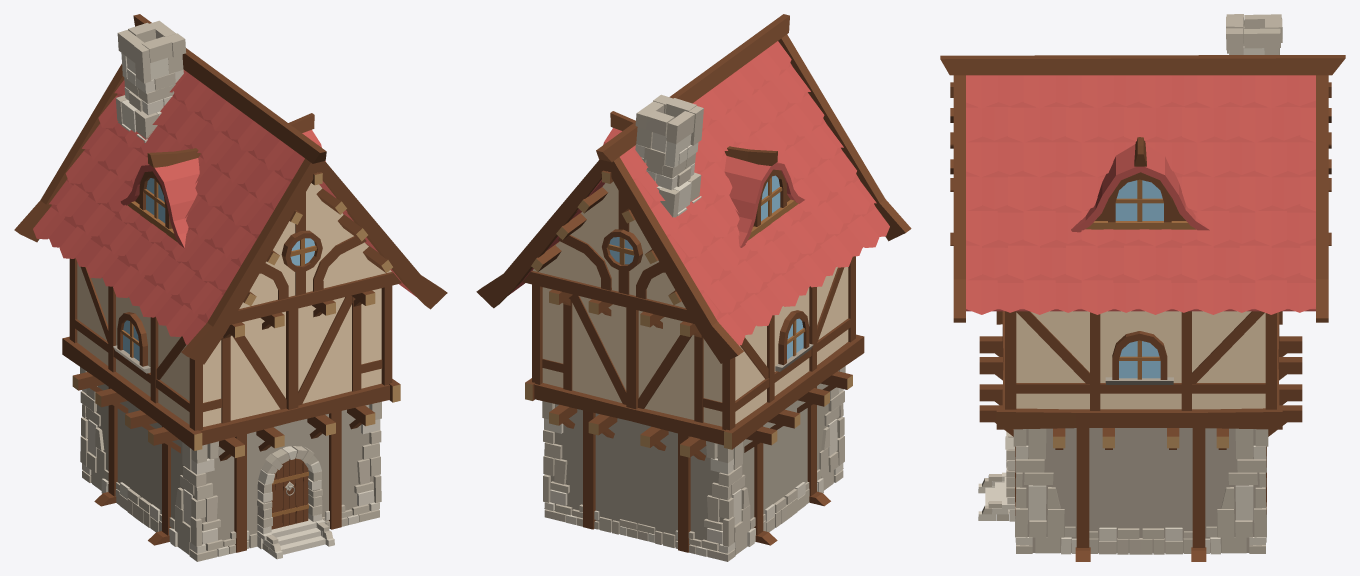
File: cottage-a-cream.glb
3 renders of one model, left to right at view 1: azimuth 30°, elevation 25°; view 2: azimuth 150°, elevation 25°; view 3: azimuth 270°, elevation 25°, orthographic. The views are drawn at different scales.
Visible parts, largest first — view 1: House_1; view 2: House_1; view 3: House_1.
Boxes of the visible parts, x1,y1,x2,y2 form: House_1: (14,14,447,561); House_1: (476,14,911,561); House_1: (940,14,1345,561).
Bounding box in the file's own units: 2.14 × 3.39 × 2.66.
